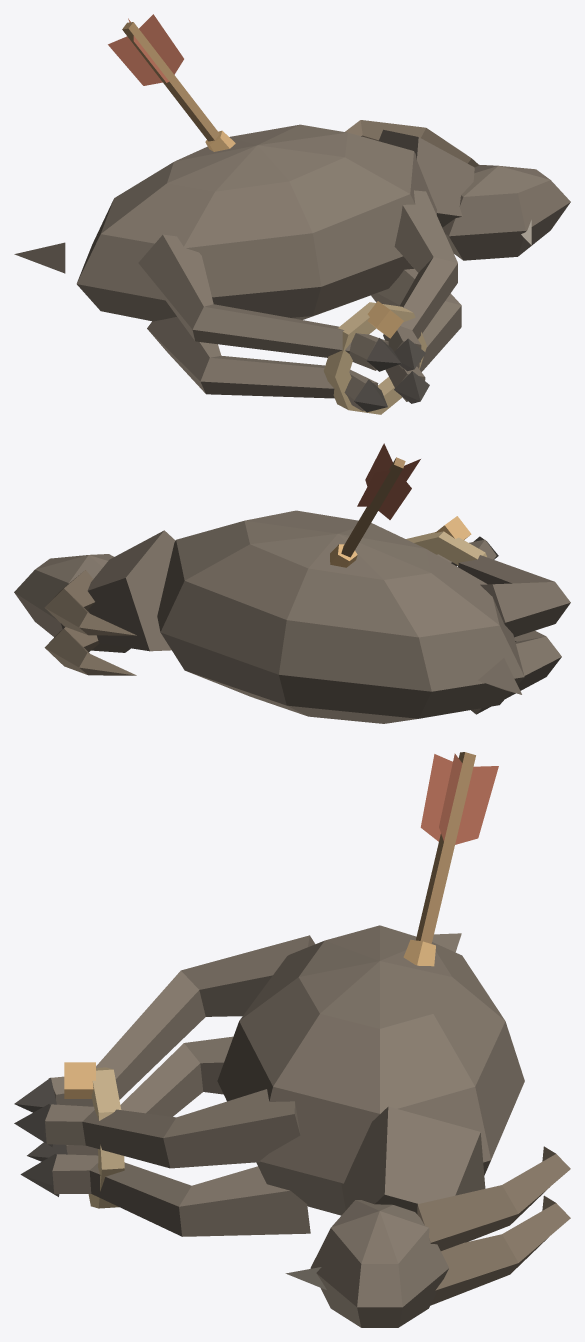
Rendered from it-carcass.glb.
3 renders of one model, top to bottom at view 1: azimuth 30°, elevation 25°; view 2: azimuth 150°, elevation 25°; view 3: azimuth 270°, elevation 25°, orthographic. The views are drawn at different scales.
Parts seen in each view (by area): view 1: body, head, leg_rl, leg_rr, leg_fl, rope_loop, leg_fr, arrow_fletching, arrow, horn_l, tail, rope_clasp (+4 smaller); view 2: body, head, leg_rl, horn_l, horn_r, arrow_fletching, leg_rr, rope_loop, arrow, tail, rope_clasp, arrow_collar; view 3: body, head, leg_fl, leg_fr, leg_rl, horn_l, horn_r, leg_rr, arrow_fletching, arrow, rope_loop, rope_clasp (+2 smaller).
Boxes of the visible parts, left/top/right/bottom form: body: left=76, top=124, right=436, bottom=321; head: left=379, top=129, right=570, bottom=260; leg_rl: left=138, top=234, right=388, bottom=370; leg_rr: left=147, top=317, right=378, bottom=411; leg_fl: left=383, top=190, right=457, bottom=369; rope_loop: left=323, top=302, right=426, bottom=414; leg_fr: left=371, top=268, right=461, bottom=401; arrow_fletching: left=108, top=14, right=183, bottom=85; arrow: left=122, top=22, right=219, bottom=141; horn_l: left=345, top=120, right=479, bottom=167; tail: left=14, top=242, right=65, bottom=273; rope_clasp: left=367, top=301, right=403, bottom=338; body: left=157, top=510, right=524, bottom=723; head: left=14, top=530, right=175, bottom=652; leg_rl: left=457, top=539, right=570, bottom=637; horn_l: left=44, top=570, right=136, bottom=635; horn_r: left=44, top=627, right=136, bottom=675; arrow_fletching: left=357, top=443, right=420, bottom=519; leg_rr: left=471, top=630, right=561, bottom=714; rope_loop: left=406, top=531, right=486, bottom=565; arrow: left=341, top=457, right=405, bottom=557; tail: left=478, top=658, right=521, bottom=694; rope_clasp: left=435, top=516, right=471, bottom=539; arrow_collar: left=330, top=544, right=357, bottom=567; body: left=217, top=925, right=524, bottom=1215; head: left=310, top=1106, right=485, bottom=1327; leg_fl: left=45, top=1089, right=300, bottom=1168; leg_fr: left=52, top=1154, right=310, bottom=1236; leg_rl: left=48, top=935, right=314, bottom=1106; horn_l: left=417, top=1146, right=570, bottom=1250; horn_r: left=430, top=1195, right=570, bottom=1305; leg_rr: left=65, top=1036, right=233, bottom=1156; arrow_fletching: left=420, top=753, right=498, bottom=844; arrow: left=416, top=752, right=475, bottom=943; rope_loop: left=88, top=1067, right=124, bottom=1208; rope_clasp: left=64, top=1062, right=95, bottom=1098.
Size of what is drawn, in the model's own units: 0.5986 by 0.3508 by 0.4415.
